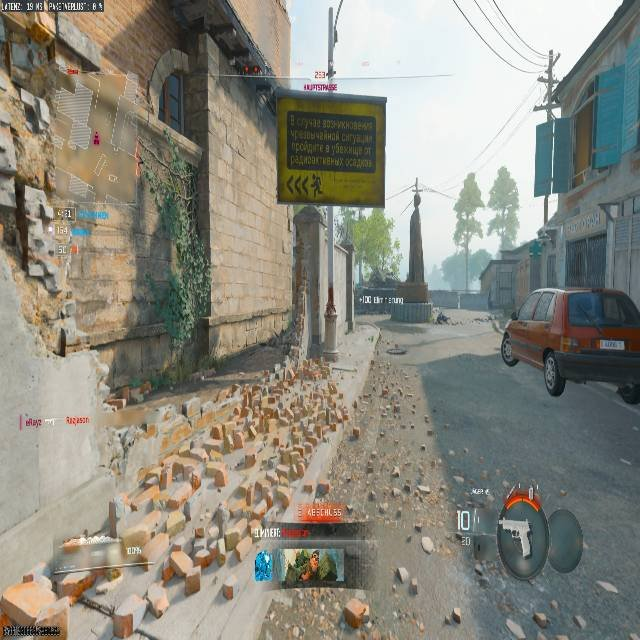player: (433, 308, 449, 325)
